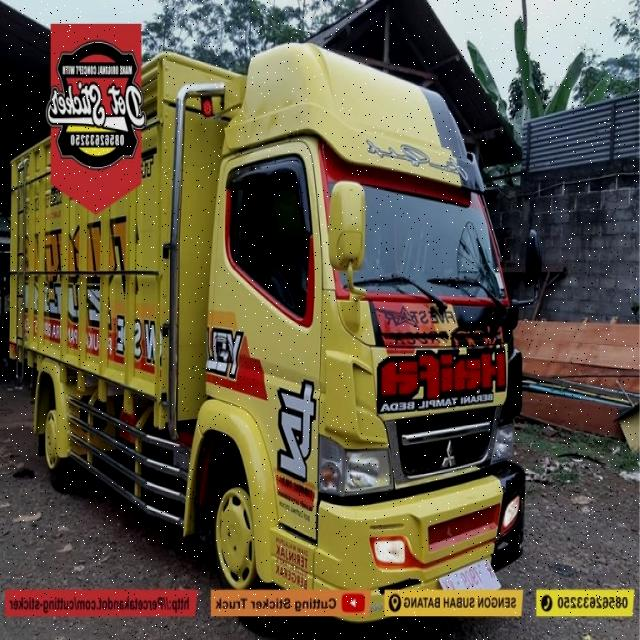truck: (1, 39, 527, 602)
